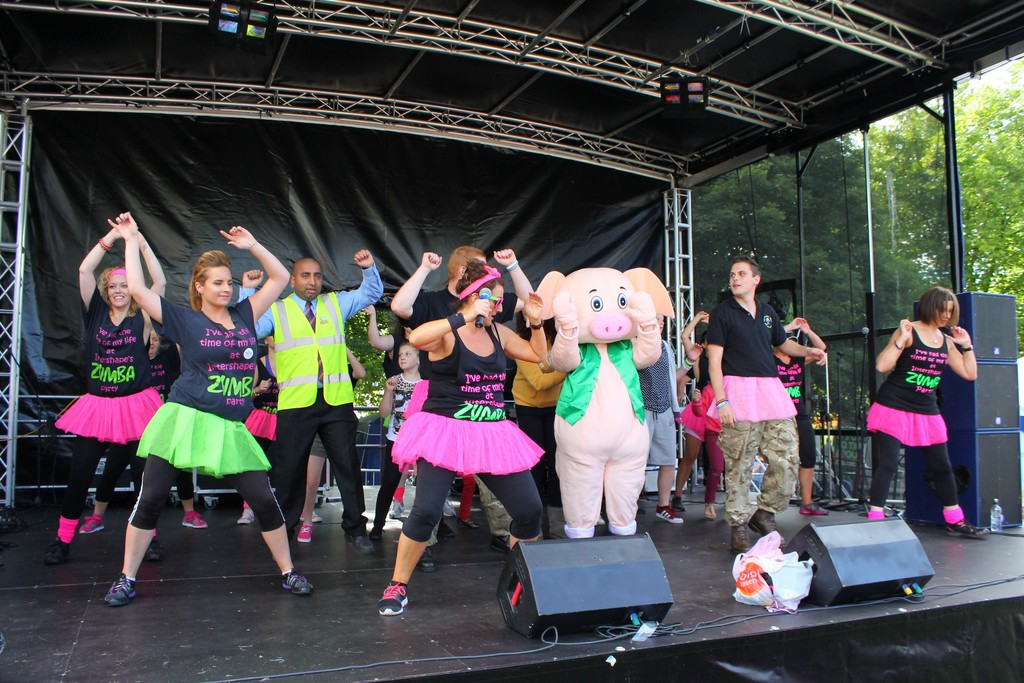Person: (44, 211, 990, 615)
